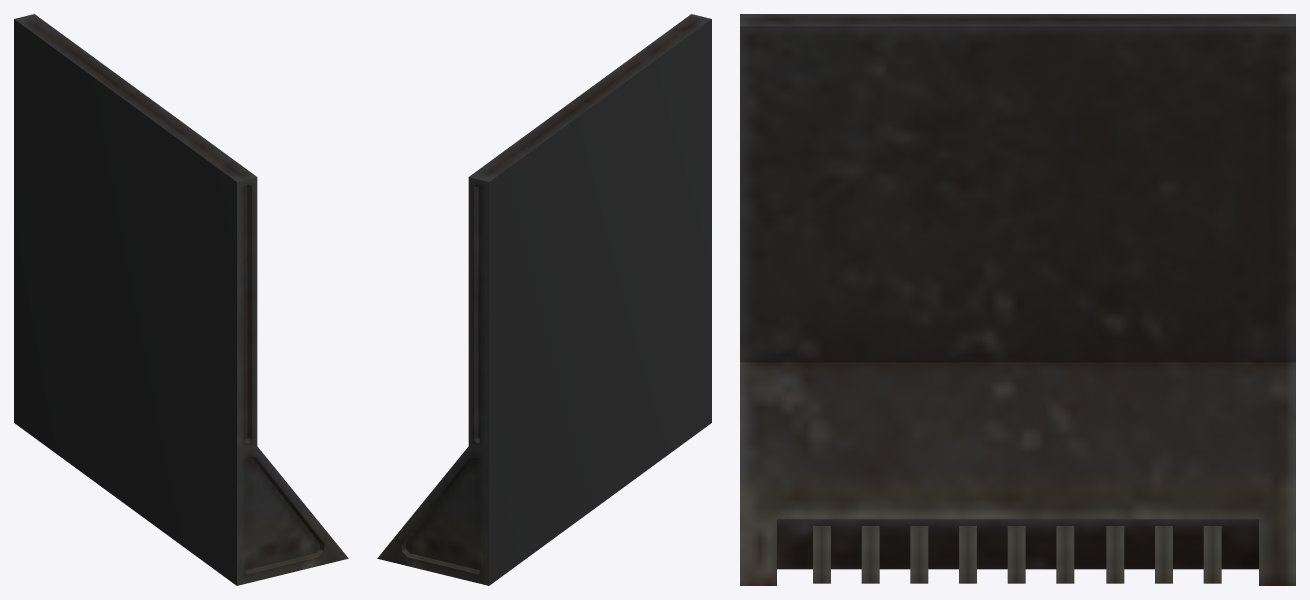
File: Wall_12.FBX
3 views of the same model, side by side, from view 1: azimuth 30°, elevation 25°; view 2: azimuth 150°, elevation 25°; view 3: azimuth 270°, elevation 25° (orthographic). The views are drawn at different scales.
Parts seen in each view (by area): view 1: Wall_12; view 2: Wall_12; view 3: Wall_12.
Part boxes in pixels (left/top/right/bottom): Wall_12: left=14, top=14, right=348, bottom=585; Wall_12: left=377, top=14, right=711, bottom=585; Wall_12: left=740, top=14, right=1295, bottom=585.
Size of the model in its own units: 87.08 by 300 by 300.
